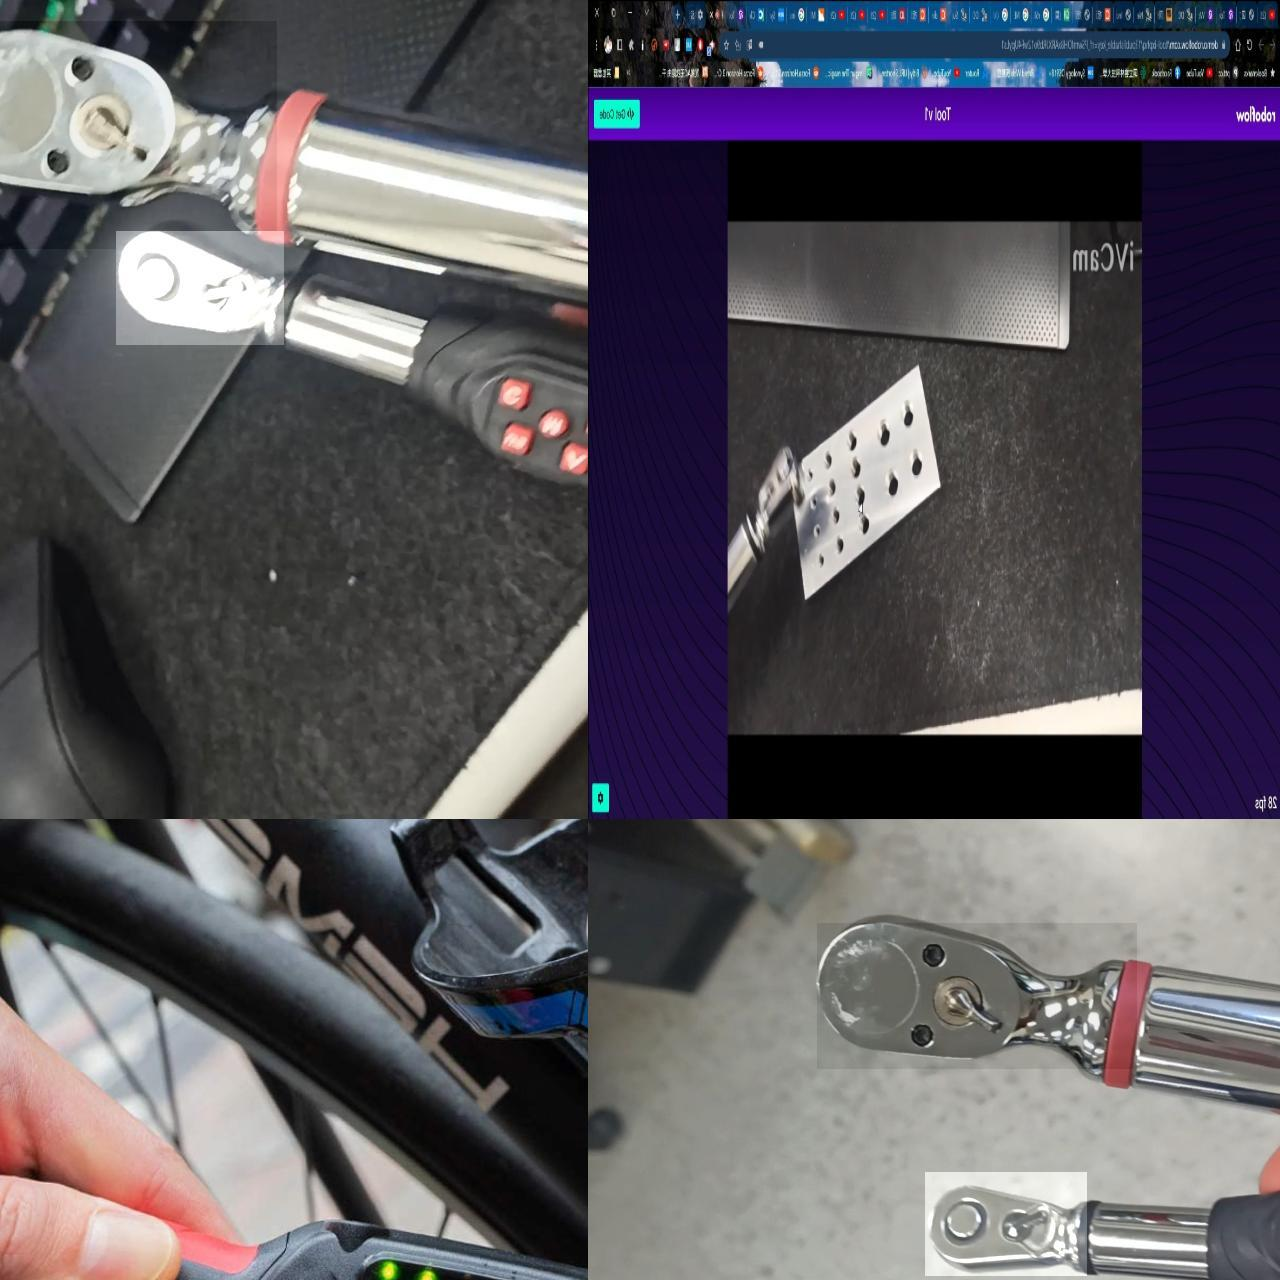Tool: (0, 20, 275, 248), (816, 922, 1136, 1068), (115, 230, 282, 343), (924, 1171, 1085, 1275)
